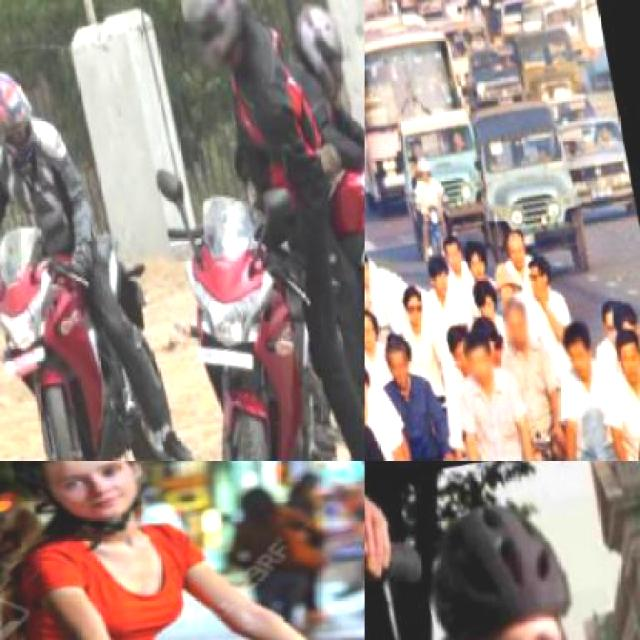With Helmet: (408, 488, 628, 638), (0, 460, 175, 557), (283, 0, 362, 108), (168, 0, 270, 80), (0, 60, 49, 171), (413, 143, 442, 182)
Without Helmet: (560, 305, 608, 384), (461, 322, 504, 390), (502, 290, 544, 352), (614, 320, 638, 386)
